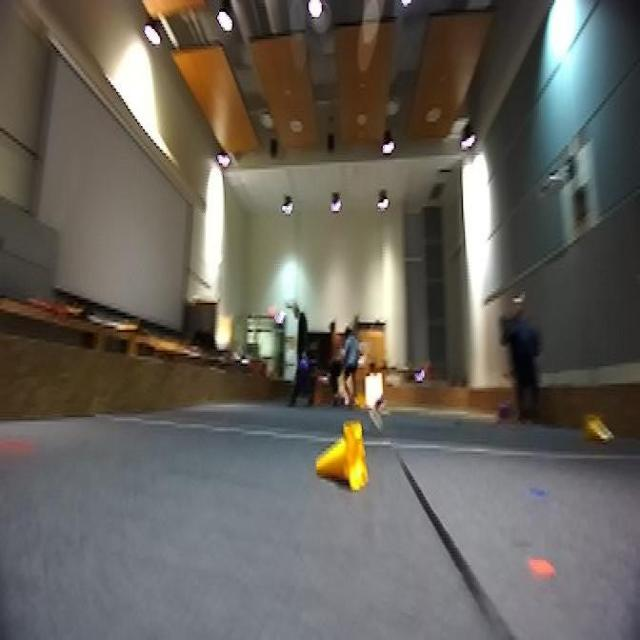frc_cone: (314, 424, 372, 494), (585, 410, 612, 444)
